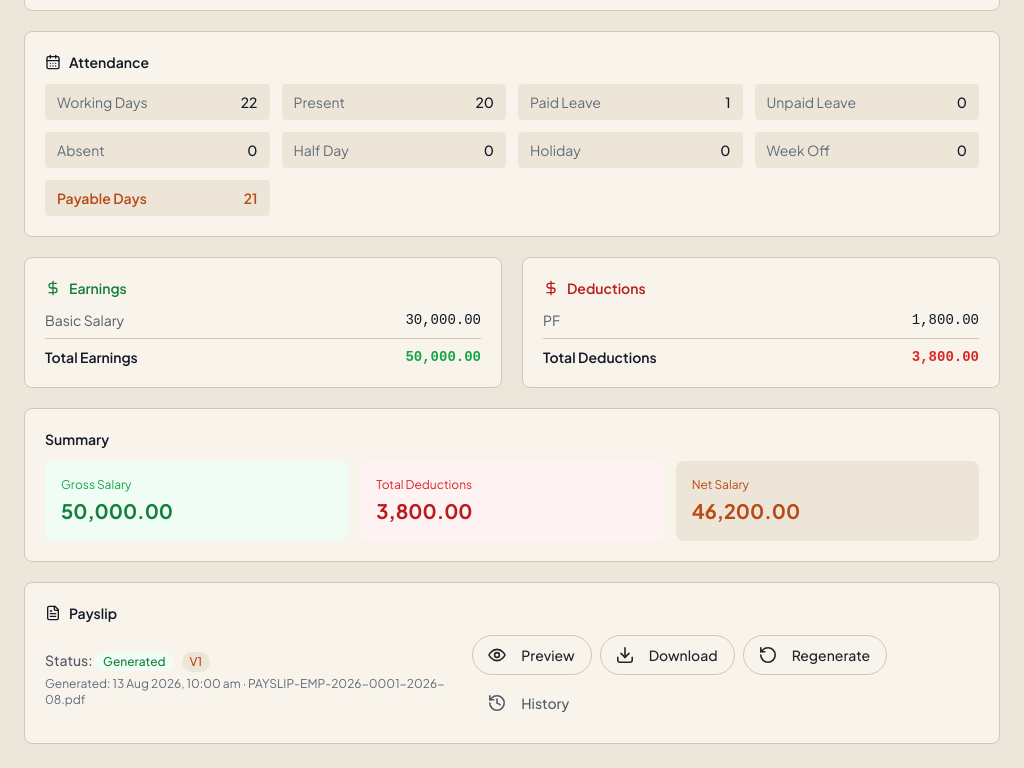
Scenario: PayrollRecordDetail — Payslip › shows a preview error state
(page scrolled)
Click the button "Preview".
click(532, 655)  # box [472,635,592,675]
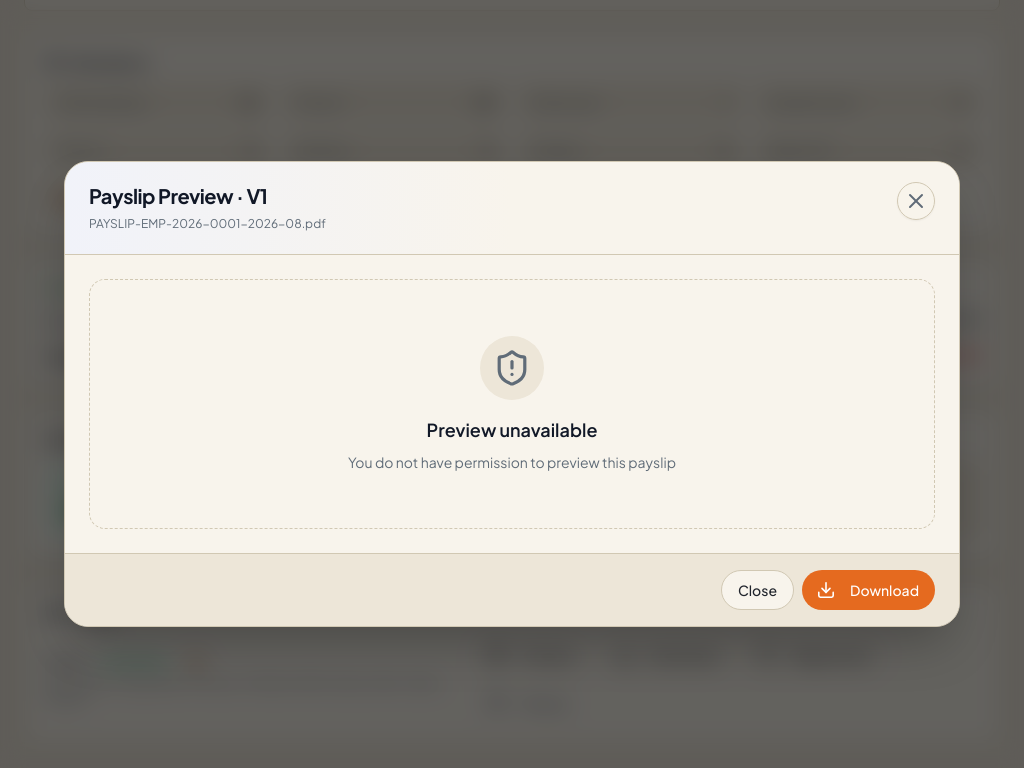
Check: the heading "Preview unavailable" is shown, box [427,416,598,444]
Check: the text "You do not have permission to preview this payslip" is shown, box [348,452,676,472]
